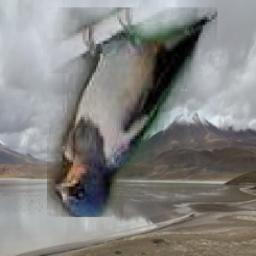Swallow: (48, 7, 218, 217)
